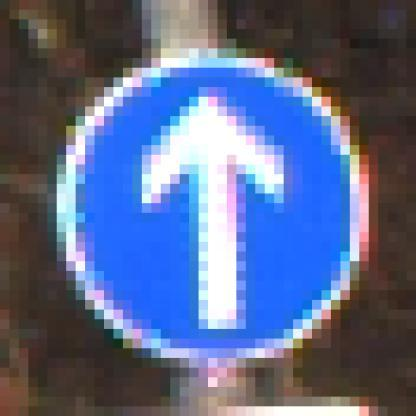straight: (42, 53, 384, 382)
